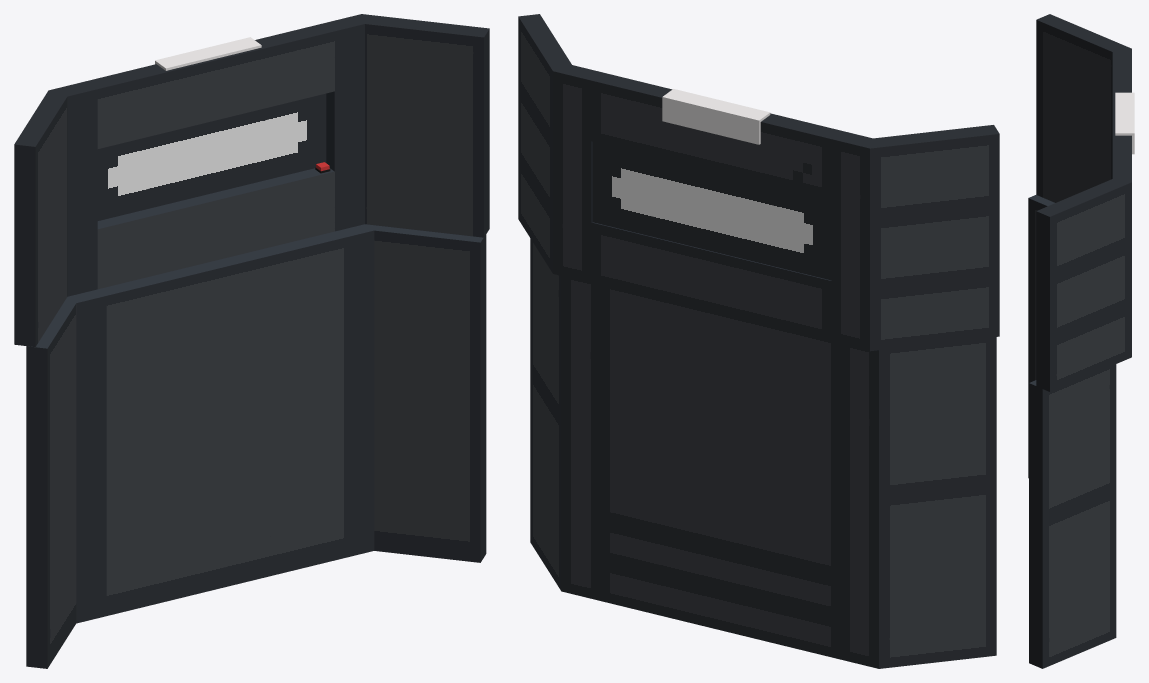
File: riotshield.glb
3 renders of one model, left to right at view 1: azimuth 30°, elevation 25°; view 2: azimuth 150°, elevation 25°; view 3: azimuth 270°, elevation 25°, orthographic. The views are drawn at different scales.
Visible parts, largest first — view 1: vert-front_4, vert-front_15, vert-front_14, vert-front_16, window_6, vert-front_5, vert-front_3, vert-front_8, vert-front_9, vert-front_10, vert-front_12, vert-front_11 (+3 smaller); view 2: vert-front_4, vert-front_16, vert-front_8, window_6, vert-front_5, vert-front_3, vert-front_10, vert-front_9, vert-front_11, vert-front_12, vert-front_15, vert-front_14 (+3 smaller); view 3: vert-front_15, vert-front_14, vert-front_8, vert-front_16, vert-front_3, light_0, vert-front_7, vert-front_13.
Boxes of the visible parts, box(x1,y1,x2,y2) form: vert-front_4: box(98, 231, 343, 535); vert-front_15: box(365, 224, 486, 562); vert-front_14: box(356, 14, 489, 237); vert-front_16: box(26, 302, 76, 668); window_6: box(97, 93, 326, 220); vert-front_5: box(97, 168, 334, 289); vert-front_3: box(87, 23, 334, 148); vert-front_8: box(14, 90, 69, 346); vert-front_9: box(64, 289, 106, 623); vert-front_10: box(335, 224, 377, 557); vert-front_12: box(106, 478, 343, 575); vert-front_11: box(106, 518, 343, 615); vert-front_4: box(600, 285, 840, 578); vert-front_16: box(879, 337, 996, 668); vert-front_8: box(864, 125, 999, 351); window_6: box(592, 141, 831, 280); vert-front_5: box(591, 222, 831, 341); vert-front_3: box(591, 72, 841, 199); vert-front_10: box(561, 276, 600, 600); vert-front_9: box(840, 344, 878, 668); vert-front_11: box(600, 560, 840, 659); vert-front_12: box(600, 520, 840, 618); vert-front_15: box(530, 238, 561, 590); vert-front_14: box(518, 14, 574, 273); vert-front_15: box(1029, 364, 1116, 668); vert-front_14: box(1036, 176, 1131, 391); vert-front_8: box(1036, 14, 1131, 202); vert-front_16: box(1028, 195, 1054, 478); vert-front_3: box(1112, 65, 1131, 166); light_0: box(1115, 92, 1134, 154); vert-front_7: box(1112, 166, 1131, 182); vert-front_13: box(1112, 48, 1131, 64).
Size of the model in its own units: 1.55 by 1.63 by 0.3442.
Materials: 1 (1 with a texture image).
